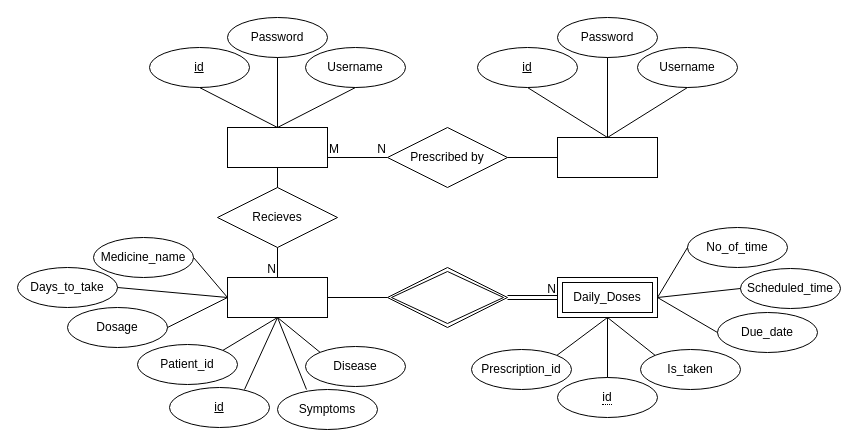
Some shapes in this 858 by 447 pixel diagram are drawn without their labels. Here are the shapes that lost their labels. From the top down, the centre of each, then its label:
At (x=277, y=147): "Patient".
At (x=607, y=157): "Doctor".
At (x=277, y=297): "Prescription".
At (x=447, y=297): "Creates".
